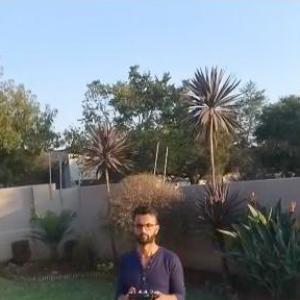follow: (112, 201, 190, 299)
